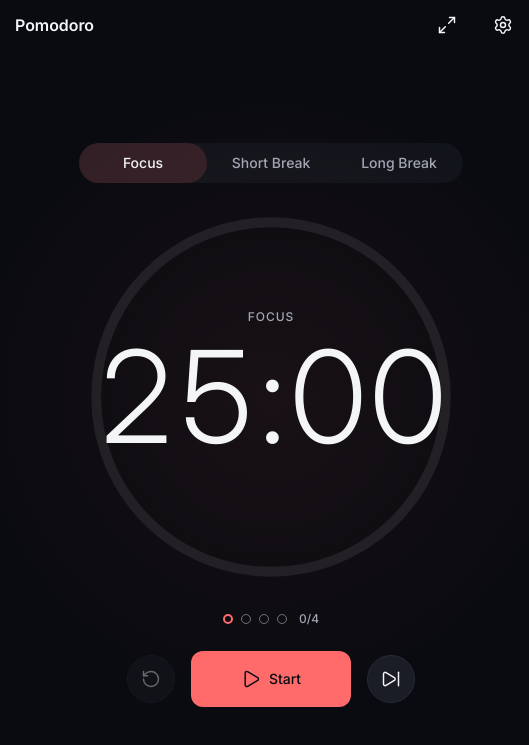
Scenario: App timer slice (POMO-AC1-POMO-AC4) › derives the display from timestamps: a clock jump is reflected
Click the button "Start" at {"x": 271, "y": 679}, box x1=191 y1=651 x2=351 y2=707
Wait 250 ms
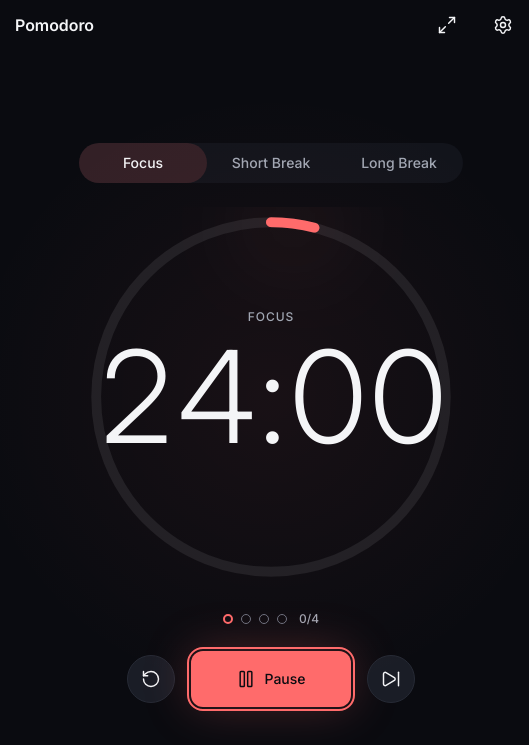
Expected: the text "24:00" is shown, x1=95 y1=333 x2=447 y2=461
